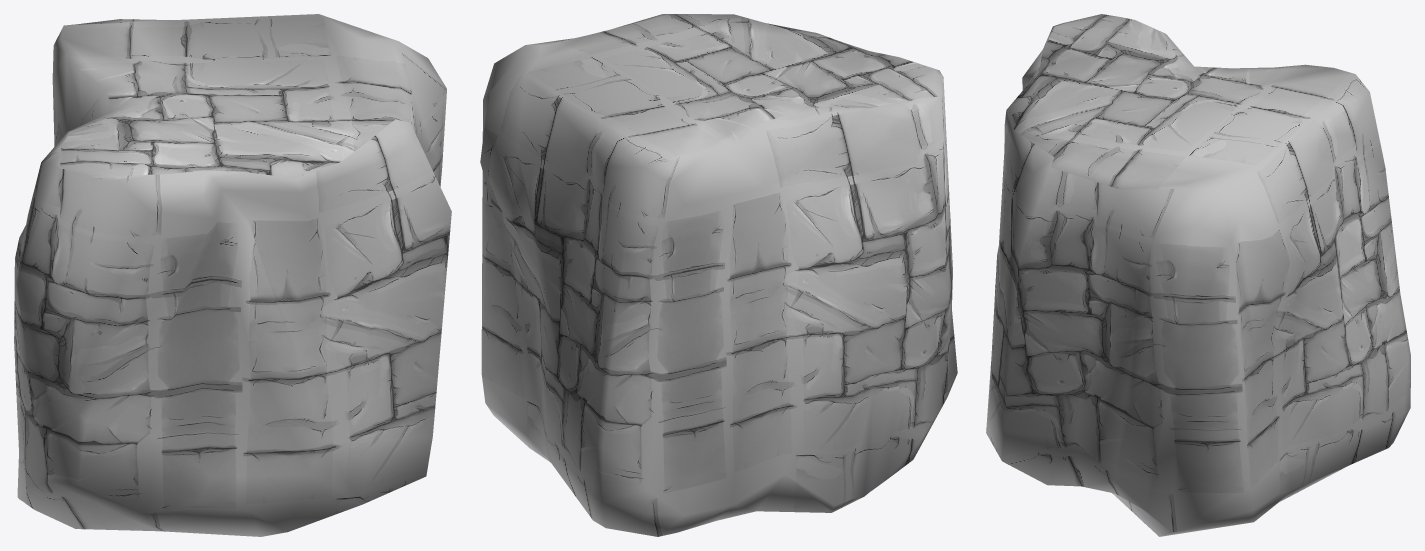
The model's file is GlacialFlow_Straight0.FBX.
3 renders of one model, left to right at view 1: azimuth 30°, elevation 25°; view 2: azimuth 150°, elevation 25°; view 3: azimuth 270°, elevation 25°, orthographic. The views are drawn at different scales.
Parts seen in each view (by area): view 1: GlacierFlow_Straight; view 2: GlacierFlow_Straight; view 3: GlacierFlow_Straight.
Part boxes in pixels (left/top/right/bottom): GlacierFlow_Straight: left=14, top=14, right=451, bottom=536; GlacierFlow_Straight: left=480, top=14, right=957, bottom=536; GlacierFlow_Straight: left=986, top=14, right=1410, bottom=536.
Size of the model in its own units: 4239 by 3745 by 3922.
